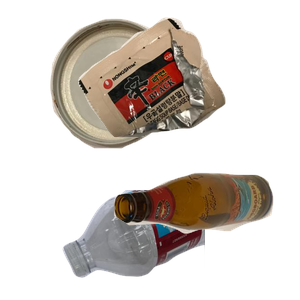glass: (111, 170, 300, 300)
metal: (47, 16, 214, 157)
plastic: (60, 190, 300, 280)
trash: (76, 15, 300, 145)
